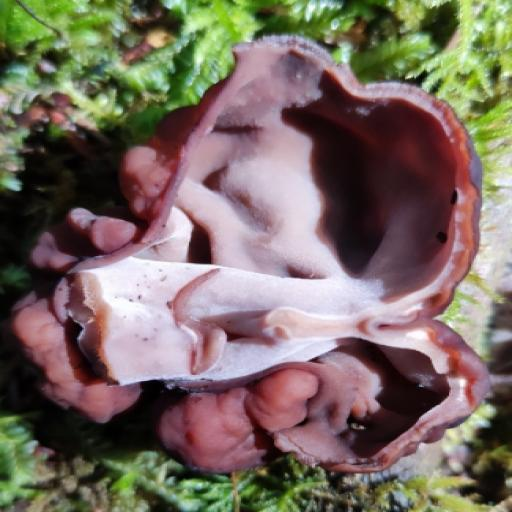False Morel: (13, 0, 512, 512)
